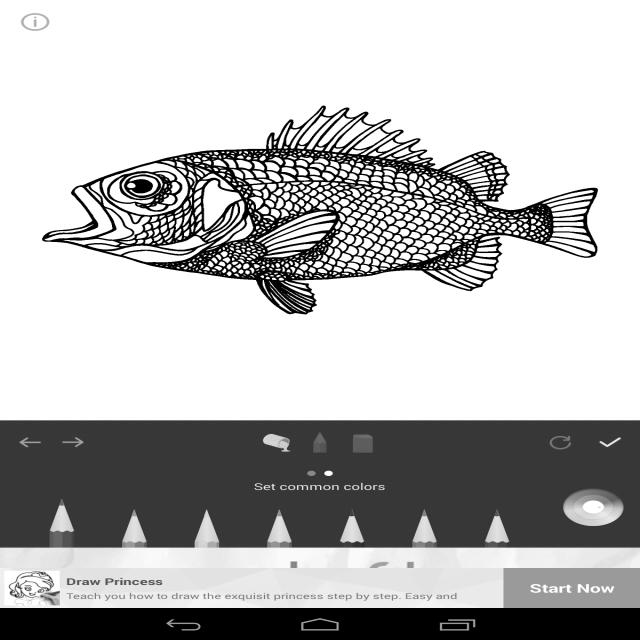ImageButton: (560, 486, 627, 528), (8, 5, 62, 39), (51, 424, 94, 460), (9, 424, 51, 460), (538, 424, 580, 460), (589, 424, 631, 460)
ImageView: (0, 0, 640, 420), (0, 545, 640, 608), (4, 571, 60, 605), (122, 509, 147, 562), (267, 509, 292, 562), (412, 509, 437, 562), (195, 509, 219, 562), (340, 509, 364, 562), (485, 509, 509, 562), (50, 498, 74, 550)
RadioButton: (256, 424, 299, 460), (341, 424, 384, 460), (299, 424, 341, 460)
TextView: (503, 568, 640, 608), (66, 575, 476, 588), (66, 590, 476, 601), (254, 480, 385, 493)
